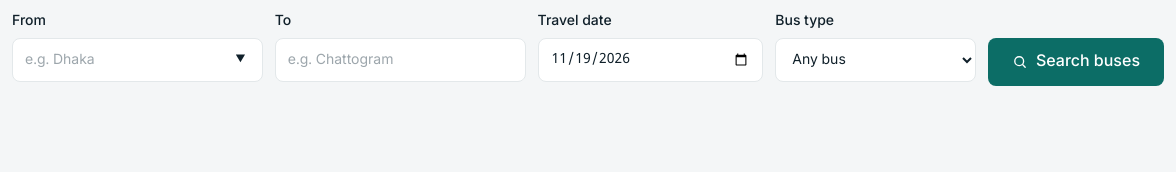
Test: SearchForm › refuses to search when both cities are the same
The width and height of the screenshot is (1176, 172).
Type "Dhaka" into the field labelled "From" at (137, 60), box [12,38,263,82]
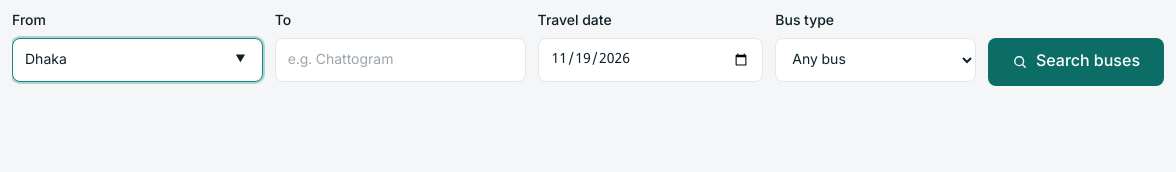
Type "dhaka" into the field labelled "To" at (400, 60), box [275,38,526,82]
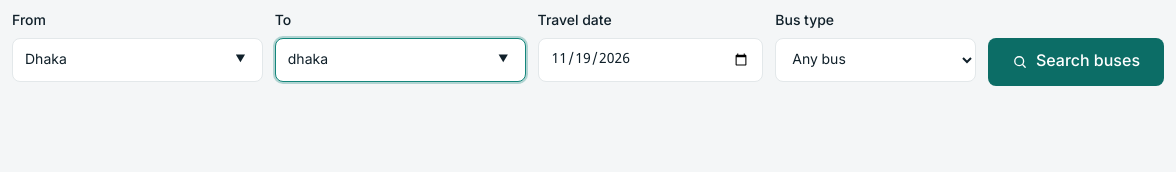
Click the button "Search buses" at (1076, 62), box [988,38,1164,86]
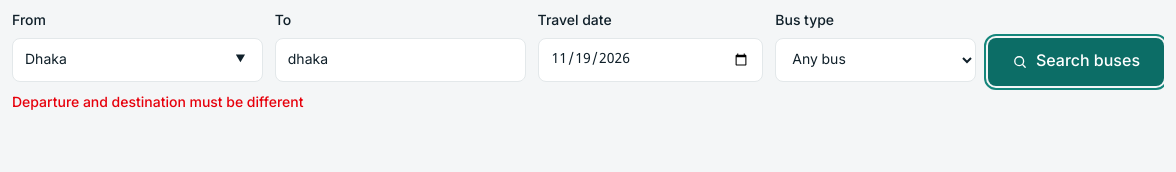
Expected: the text "Departure and destination must be different" is shown, [12,94,304,113]
